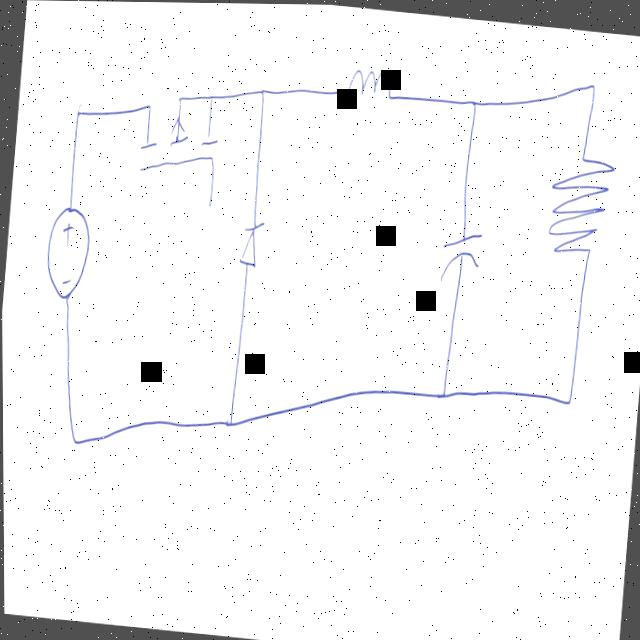capacitor: (422, 200, 491, 296)
diode: (228, 201, 272, 283)
inductor: (340, 31, 400, 124)
mosfet: (120, 73, 236, 226)
resistor: (530, 137, 623, 288)
source: (35, 191, 95, 315)
